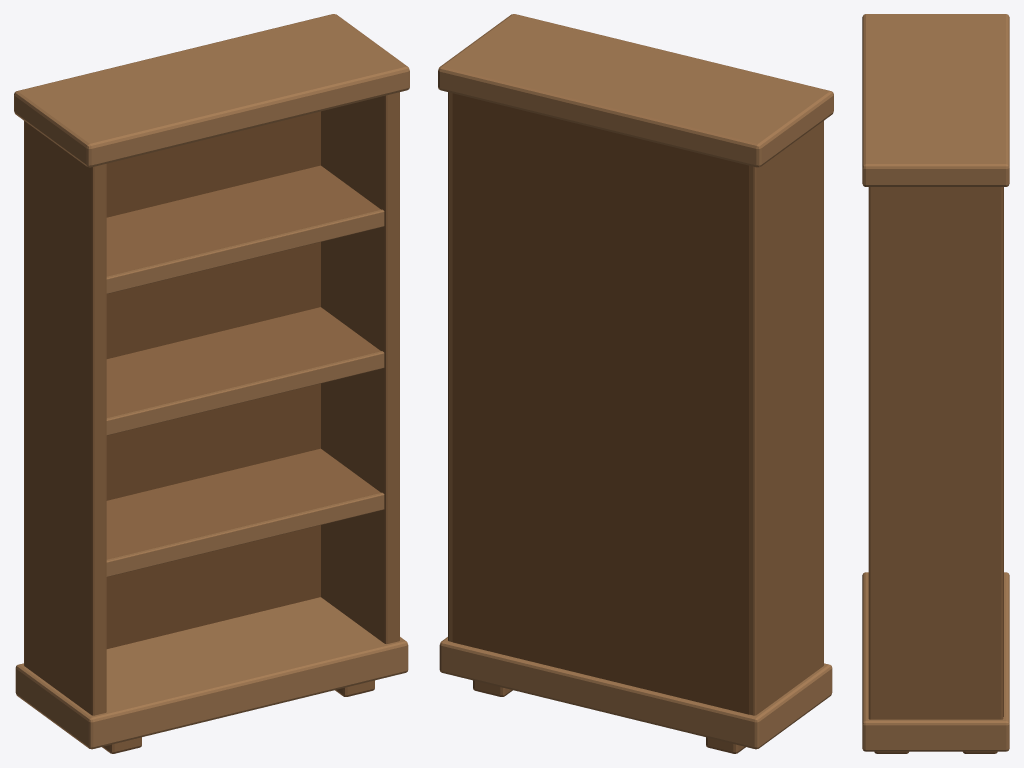
File: bookshelf.glb
3 views of the same model, side by side, from view 1: azimuth 30°, elevation 25°; view 2: azimuth 150°, elevation 25°; view 3: azimuth 270°, elevation 25° (orthographic). The views are drawn at different scales.
Parts seen in each view (by area): view 1: Bookcase back panel, Tall bookcase side, Tall bookcase side.001, Bookcase top cornice, Bookcase lower plinth, Open shelf 3, Open shelf 1, Open shelf 2, Shelf front edge.001, Shelf front edge, Shelf front edge.002; view 2: Bookcase back panel, Tall bookcase side, Bookcase top cornice, Bookcase lower plinth, Tall bookcase side.001; view 3: Tall bookcase side.001, Bookcase top cornice, Bookcase lower plinth, Bookcase back panel.
Boxes of the visible parts, <box> form: Bookcase back panel: <box>106,111,320,648</box>; Tall bookcase side: <box>24,121,106,715</box>; Tall bookcase side.001: <box>321,92,399,643</box>; Bookcase top cornice: <box>14,14,409,167</box>; Bookcase lower plinth: <box>15,597,408,749</box>; Open shelf 3: <box>106,165,380,276</box>; Open shelf 1: <box>106,448,380,559</box>; Open shelf 2: <box>106,307,380,417</box>; Shelf front edge.001: <box>106,351,384,435</box>; Shelf front edge: <box>106,492,384,576</box>; Shelf front edge.002: <box>106,209,384,293</box>; Bookcase back panel: <box>452,93,749,714</box>; Tall bookcase side: <box>749,121,823,715</box>; Bookcase top cornice: <box>438,14,833,167</box>; Bookcase lower plinth: <box>439,637,832,749</box>; Tall bookcase side.001: <box>448,92,452,641</box>; Tall bookcase side.001: <box>868,187,1003,719</box>; Bookcase top cornice: <box>862,14,1009,186</box>; Bookcase lower plinth: <box>862,572,1009,751</box>; Bookcase back panel: <box>1003,187,1003,716</box>.
Size of the model in its own units: 0.86 by 1.58 by 0.35.
